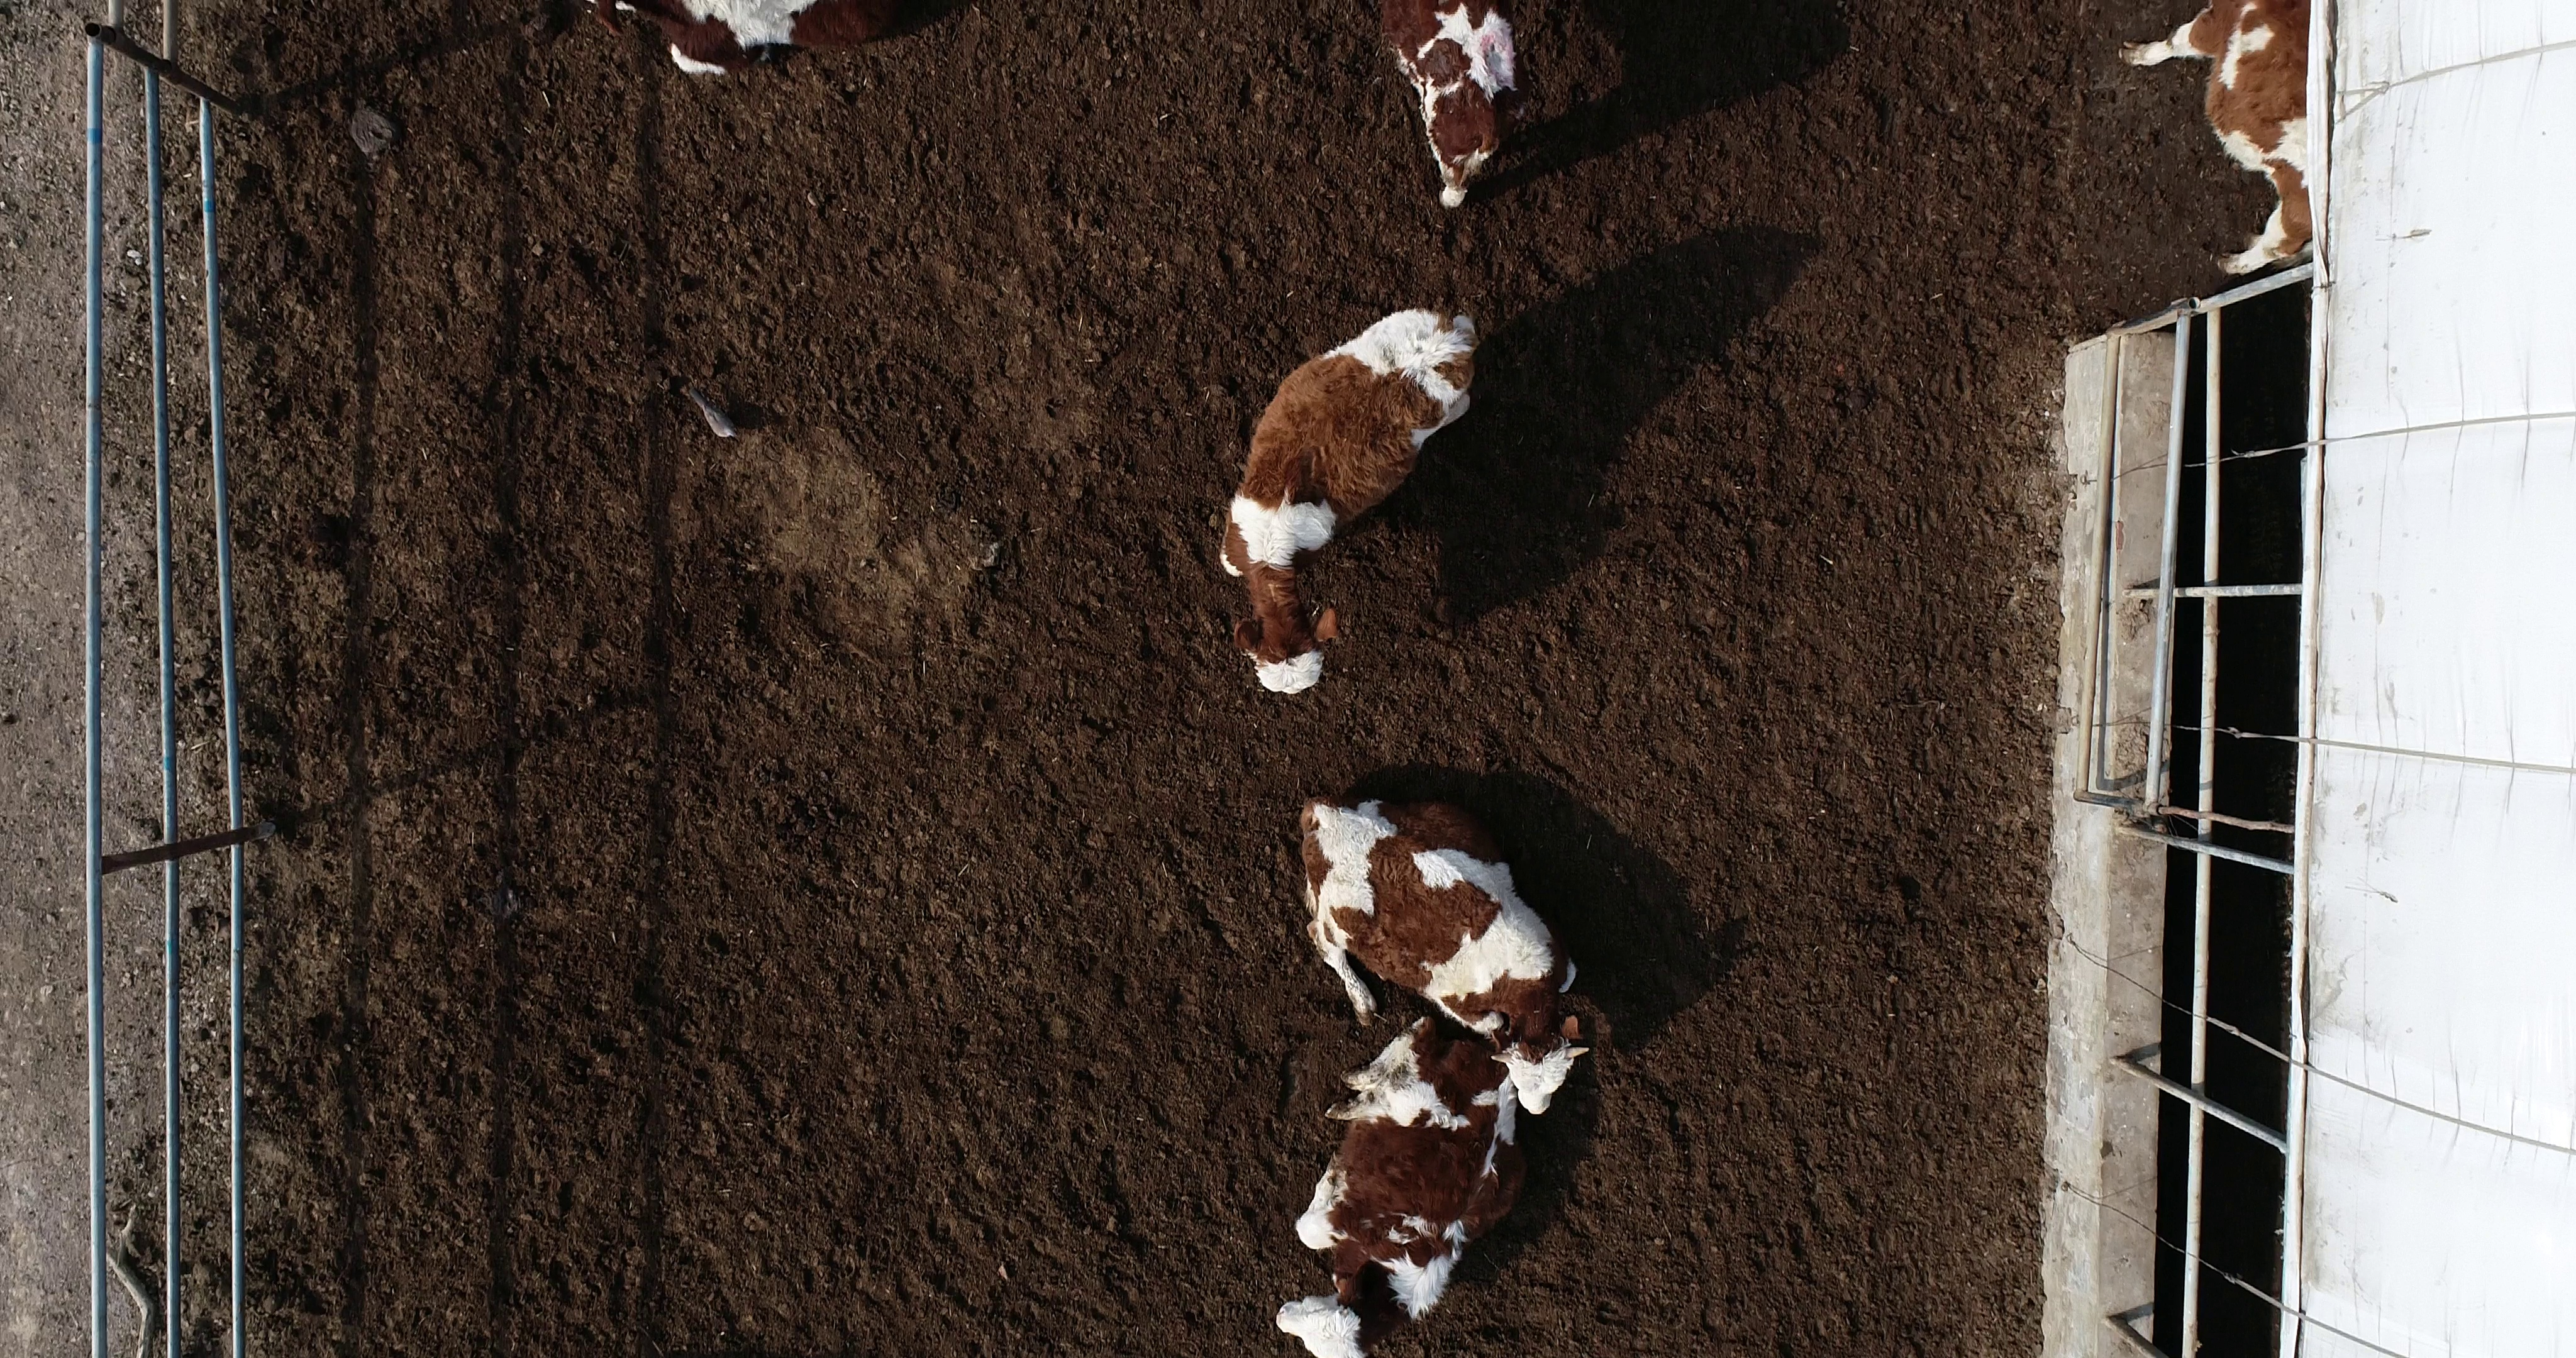cattle: (1211, 302, 1487, 700), (1290, 785, 1600, 1121)
